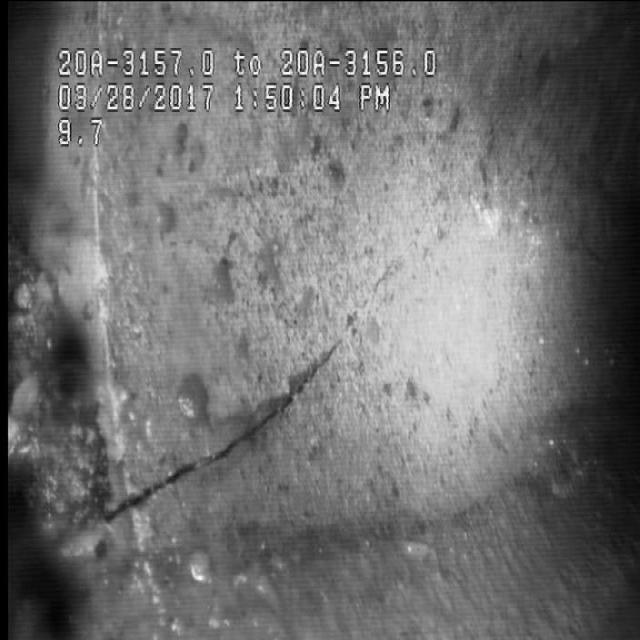Crack: (160, 217, 446, 530)
